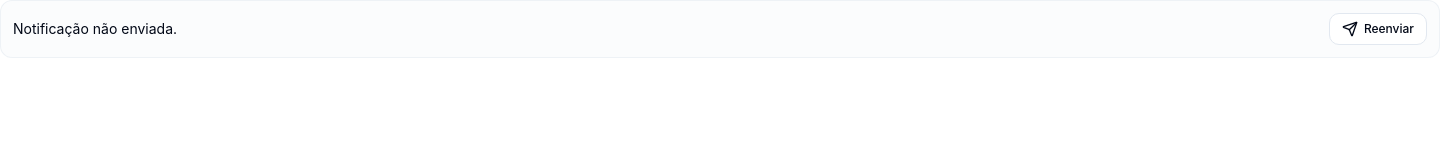
Scenario: AppointmentNotifier — failed then resent (NOTIF-02, NOTIF-03) › keeps the delivery surface, resends as a fresh invocation and flips to sent
This screenshot has width=1440, height=160.
Click the button "Reenviar": (1378, 29) [1329,13,1427,45]
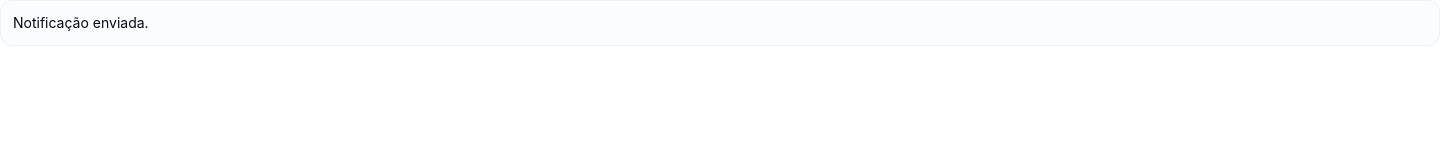
Now the button "Reenviar" is gone
